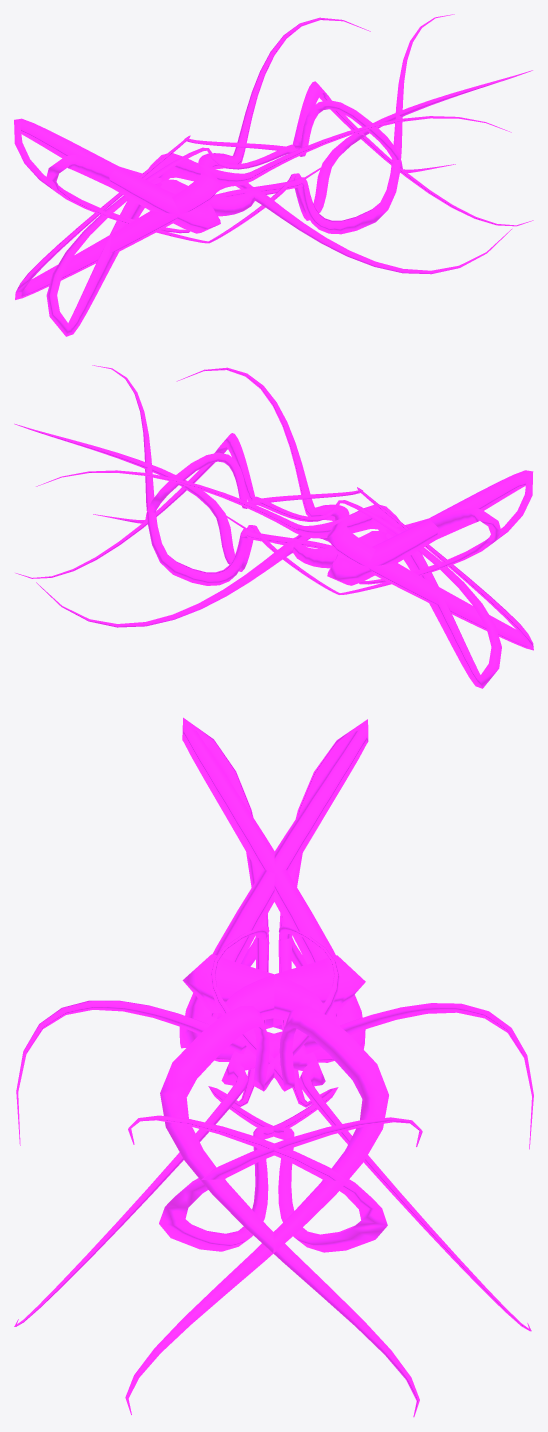
The model's file is WormBody.fbx.
The picture shows the model from 3 angles, top to bottom: view 1: azimuth 30°, elevation 25°; view 2: azimuth 150°, elevation 25°; view 3: azimuth 270°, elevation 25°; orthographic projection. The views are drawn at different scales.
Parts seen in each view (by area): view 1: worm.001; view 2: worm.001; view 3: worm.001.
Boxes of the visible parts, x1,y1,x2,y2 form: worm.001: (14,14,533,336); worm.001: (14,365,533,688); worm.001: (14,717,533,1417).
Size of the model in its own units: 1921 by 717 by 1036.
